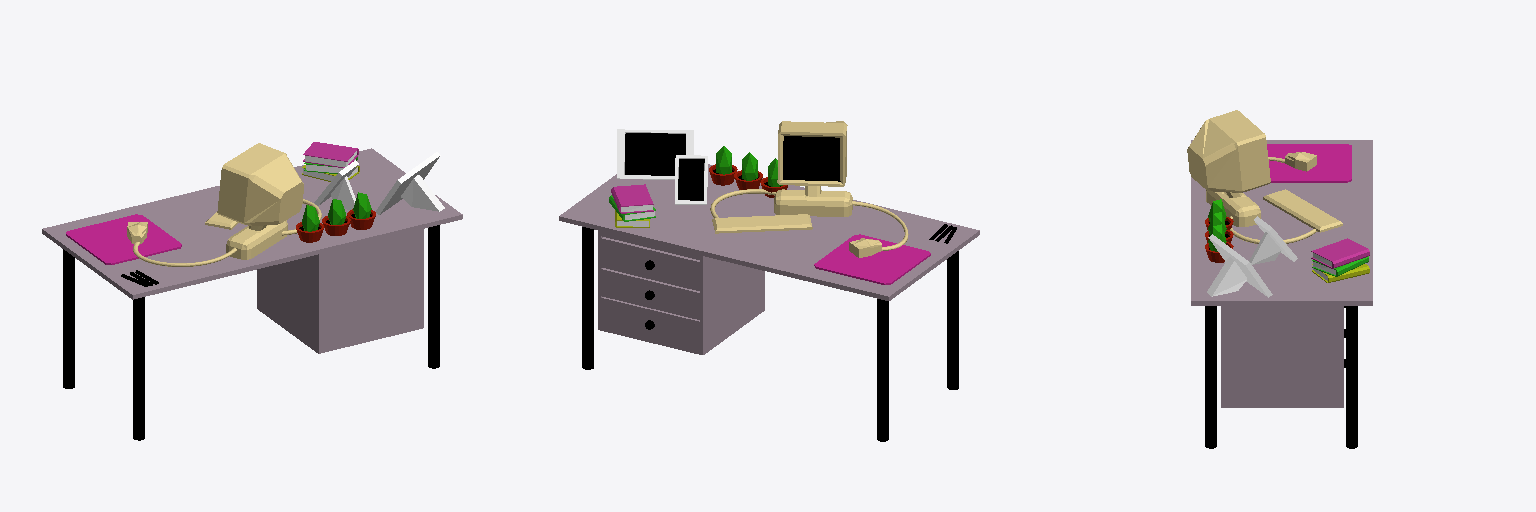
Rendered from Desk_VariantThree_RA.obj.
The picture shows the model from 3 angles: view 1: azimuth 30°, elevation 25°; view 2: azimuth 150°, elevation 25°; view 3: azimuth 270°, elevation 25°; orthographic projection.
Parts seen in each view (by area): view 1: curve3; view 2: curve3; view 3: curve3.
Part boxes in pixels (x1,y1,x2,y2): curve3: (42, 142, 462, 440); curve3: (559, 121, 979, 441); curve3: (1187, 110, 1372, 448).
Size of the model in its own units: 13.46 by 9.21 by 6.45.